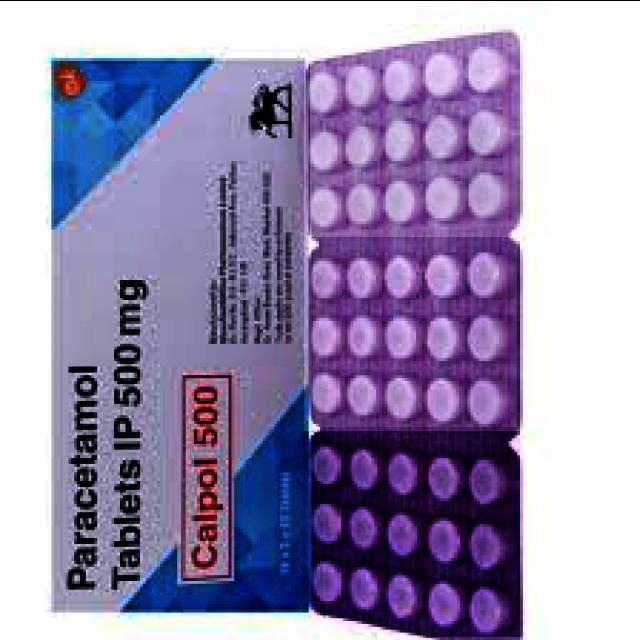authentic: (36, 52, 304, 632), (302, 430, 525, 636), (310, 28, 524, 236), (314, 231, 518, 426)
